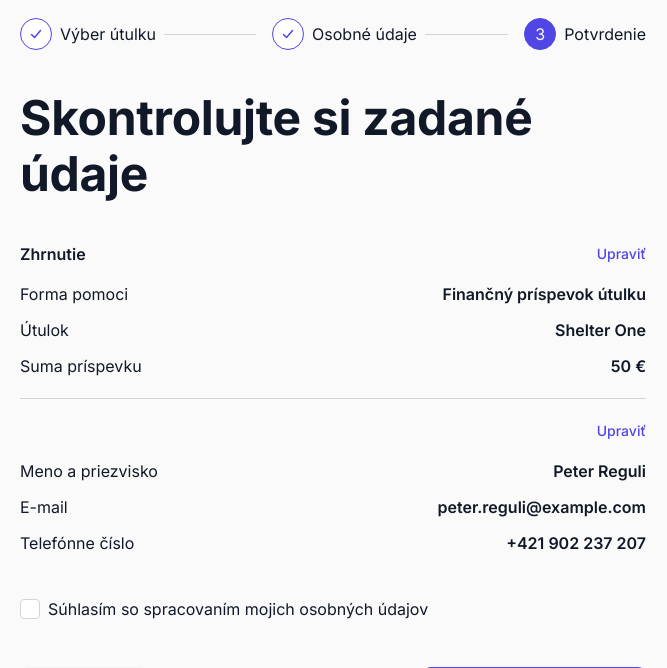
Test case: Step3 › 400 validation naming contributors.0.email: generic message + the e-mail field named + link to step 2, no retry button
The image size is (667, 668).
Expected: the text "Shelter One" is shown, left=555, top=318, right=646, bottom=342
Click the checkbox labelled "Súhlasím so spracovaním mojich osobných údajov": (224, 609) left=20, top=599, right=428, bottom=619
(page scrolled)
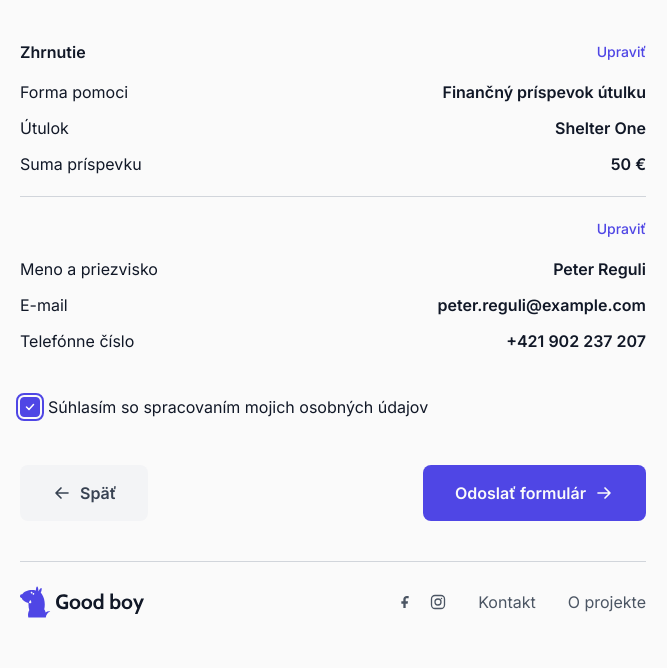
Click the button "Odoslať formulár": (534, 493) left=423, top=465, right=646, bottom=521
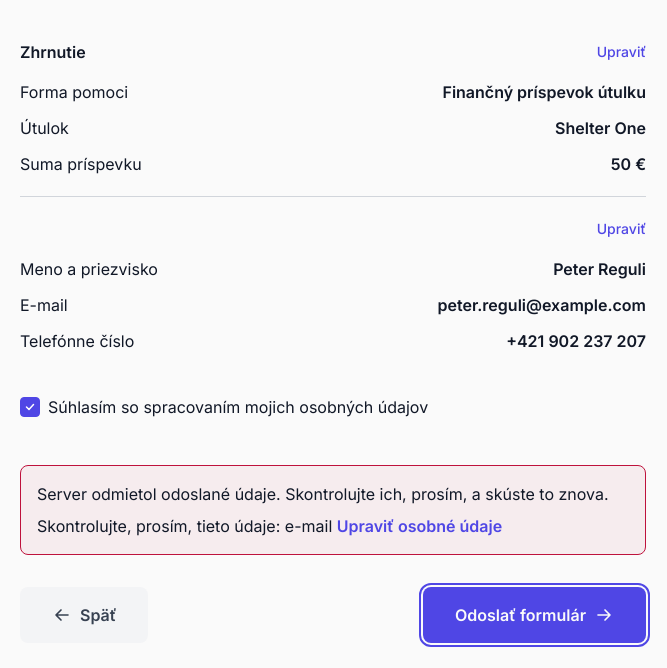
Expected: the message shows "Server odmietol odoslané údaje. Skontrolujte ich, prosím, a skúste to znova.", left=37, top=484, right=609, bottom=504
Expected: the message shows "e-mail", left=285, top=516, right=332, bottom=536
